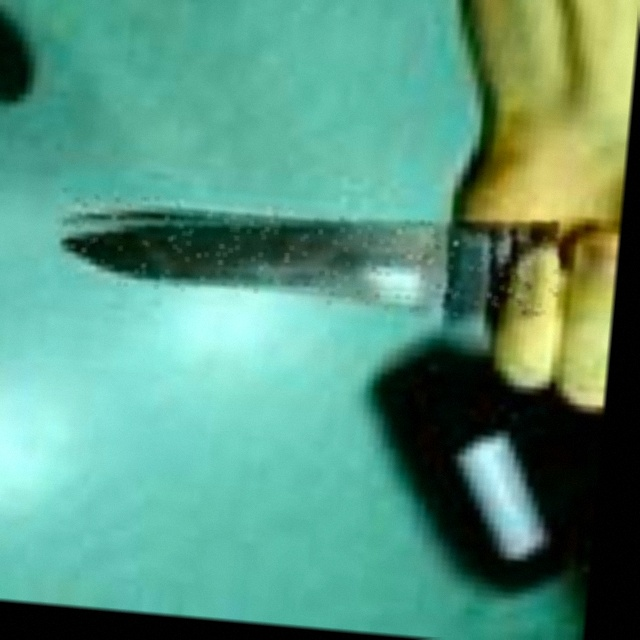Sharp-Object: (54, 188, 562, 324)
